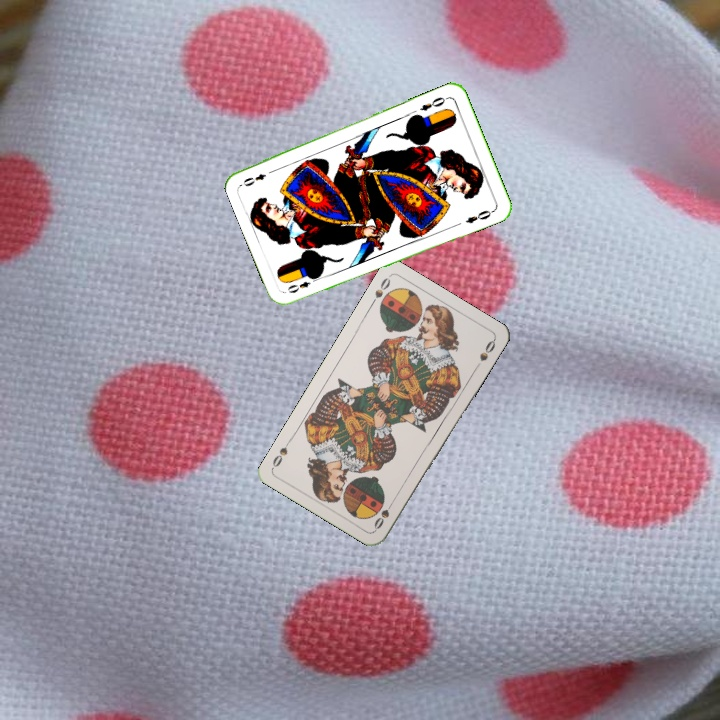EO: (283, 273, 321, 296), (416, 93, 451, 114)
SO: (370, 495, 397, 532), (366, 273, 393, 309)
